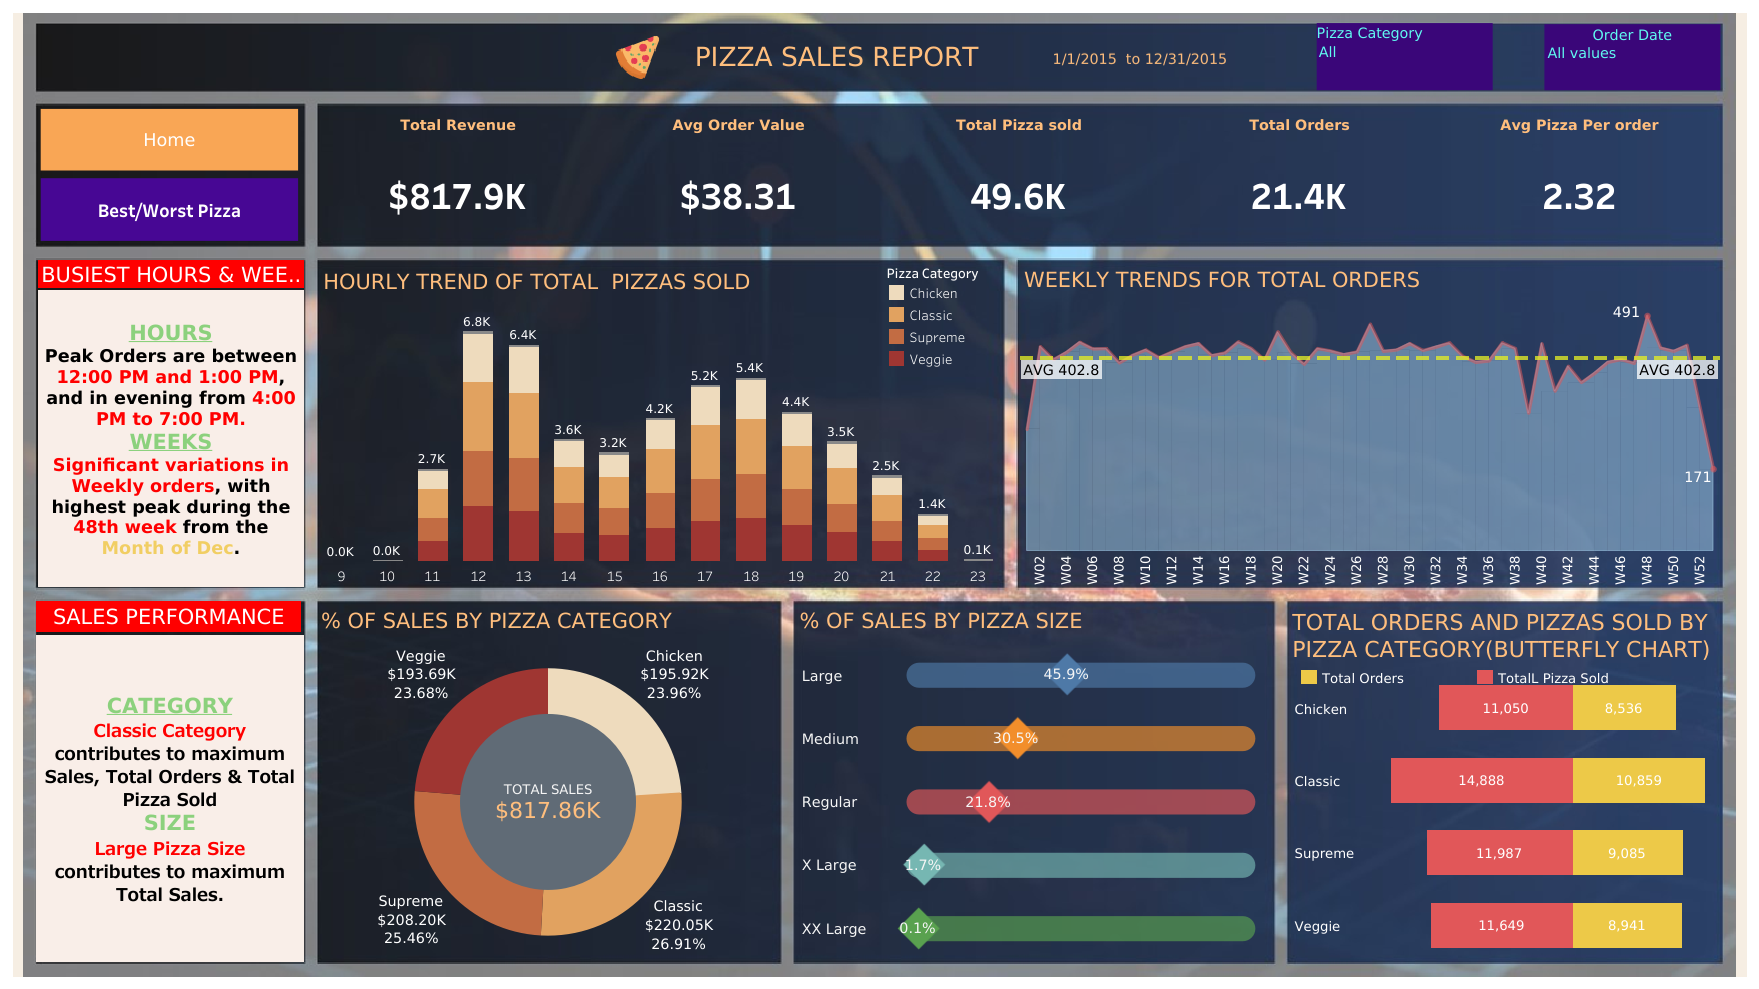

Layout of this report page (visuals, bound fields, positions):
{"tool":"tableau","page":{"name":"Home","canvas":[1600,900],"ordinal":1},"visuals":[{"type":"image","param":"Image/Pizza Tableau 1.jpg","box":[8,8,1584,884]},{"type":"filter","title":"HOURLY TREND OF TOTAL  PIZZAS SOLD","param":"[federated.1jtlkf706w61m3192kbos1v5yyjk].[none:pizza_category:nk]","box":[1197,21,160,61]},{"type":"filter","title":"HOURLY TREND OF TOTAL  PIZZAS SOLD","param":"[federated.1jtlkf706w61m3192kbos1v5yyjk].[none:order_date:qk]","box":[1404,22,160,60]},{"type":"text","box":[629,29,325,45]},{"type":"worksheet","title":"Sheet 7","mark":"Automatic","box":[920,29,235,50]},{"type":"image","param":"Image/pizza-slice.png","box":[538,32,84,41]},{"type":"worksheet","title":"KPI","mark":"Automatic","box":[289,95,1275,129]},{"type":"dashboard-object","box":[37,99,234,56]},{"type":"dashboard-object","box":[37,162,234,57]},{"type":"text","box":[35,236,241,26]},{"type":"legend","title":"HOURLY TREND OF TOTAL  PIZZAS SOLD","param":"[federated.1jtlkf706w61m3192kbos1v5yyjk].[none:pizza_category:nk]","box":[805,237,106,98]},{"type":"worksheet","title":"WEEKLY TRENDS FOR TOTAL ORDERS","mark":"Area","rows":["Calculation_1300695902329982978","Calculation_1300695902329982978"],"cols":["order_date"],"box":[927,237,636,296]},{"type":"worksheet","title":"HOURLY TREND OF TOTAL  PIZZAS SOLD","mark":"Bar","rows":["Calculation_1300695902330490883","Calculation_1300695902330490883"],"cols":["order_time"],"box":[290,239,621,294]},{"type":"text","box":[35,264,241,270]},{"type":"text","box":[33,546,241,29]},{"type":"worksheet","title":"% OF SALES BY PIZZA CATEGORY","mark":"Pie","rows":["Calculation_1300695902367920134","Calculation_1300695902368026632"],"box":[288,547,420,327]},{"type":"worksheet","title":"% OF SALES BY PIZZA SIZE(SLIDER CHART)","mark":"Line","rows":["pizza_size"],"box":[723,547,433,326]},{"type":"worksheet","title":"TOTAL ORDERS AND PIZZAS SOLD BY PIZZA CATEGORY","mark":"Automatic","rows":["pizza_category"],"box":[1171,548,393,326]},{"type":"text","box":[33,577,243,298]},{"type":"legend","title":"TOTAL ORDERS AND PIZZAS SOLD BY PIZZA CATEGORY","param":"[federated.1jtlkf706w61m3192kbos1v5yyjk].[:Measure Names]","box":[1180,606,374,16]}]}

Visuals, with their boxes in screenshot pixels (x1, y1, x2, y2), scaled from the page's 1600x900 canvas onto the 1759x989 screenshot:
image: Rect(9, 9, 1750, 980)
"HOURLY TREND OF TOTAL  PIZZAS SOLD" filter: Rect(1316, 23, 1492, 90)
"HOURLY TREND OF TOTAL  PIZZAS SOLD" filter: Rect(1544, 24, 1719, 90)
text: Rect(692, 32, 1049, 81)
"Sheet 7" worksheet: Rect(1011, 32, 1270, 87)
image: Rect(591, 35, 684, 80)
"KPI" worksheet: Rect(318, 104, 1719, 246)
dashboard-object: Rect(41, 109, 298, 170)
dashboard-object: Rect(41, 178, 298, 241)
text: Rect(38, 259, 303, 288)
"HOURLY TREND OF TOTAL  PIZZAS SOLD" legend: Rect(885, 260, 1002, 368)
"WEEKLY TRENDS FOR TOTAL ORDERS" worksheet (Area marks): Rect(1019, 260, 1718, 586)
"HOURLY TREND OF TOTAL  PIZZAS SOLD" worksheet (Bar marks): Rect(319, 263, 1002, 586)
text: Rect(38, 290, 303, 587)
text: Rect(36, 600, 301, 632)
"% OF SALES BY PIZZA CATEGORY" worksheet (Pie marks): Rect(317, 601, 778, 960)
"% OF SALES BY PIZZA SIZE(SLIDER CHART)" worksheet (Line marks): Rect(795, 601, 1271, 959)
"TOTAL ORDERS AND PIZZAS SOLD BY PIZZA CATEGORY" worksheet: Rect(1287, 602, 1719, 960)
text: Rect(36, 634, 303, 962)
"TOTAL ORDERS AND PIZZAS SOLD BY PIZZA CATEGORY" legend: Rect(1297, 666, 1708, 684)
